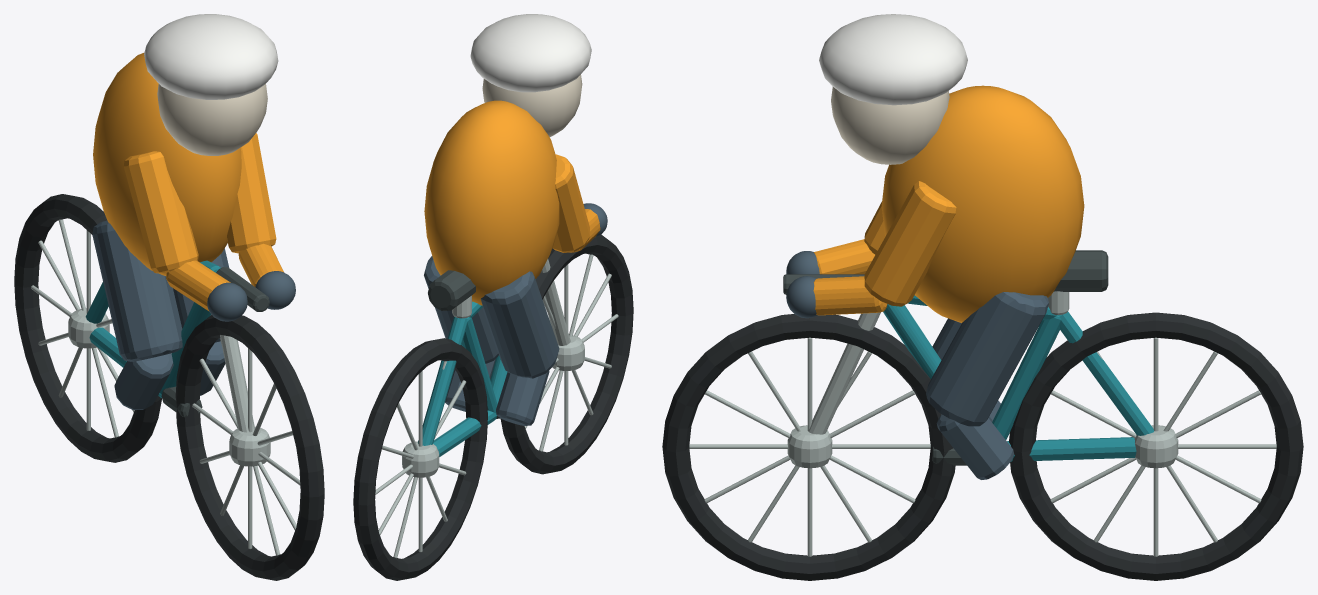
The model's file is cyklist.glb.
3 views of the same model, side by side, from view 1: azimuth 30°, elevation 25°; view 2: azimuth 150°, elevation 25°; view 3: azimuth 270°, elevation 25° (orthographic). The views are drawn at different scales.
Parts seen in each view (by area): view 1: Cyclist torso, Bicycle wheel.001, Bicycle wheel, Cyclist helmet, Cyclist thigh, Cyclist upper arm, Cyclist head, Cyclist upper arm.001, Cyclist lower leg, Cyclist forearm, Front fork, Cyclist glove (+17 smaller); view 2: Cyclist torso, Bicycle wheel, Bicycle wheel.001, Cyclist helmet, Cyclist thigh, Cyclist head, Cyclist upper arm, Cyclist lower leg, Seat stay, Saddle, Cyclist thigh.001, Wheel hub (+12 smaller); view 3: Cyclist torso, Bicycle wheel, Bicycle wheel.001, Cyclist helmet, Cyclist thigh.001, Cyclist upper arm.001, Cyclist head, Cyclist lower leg.001, Seat tube, Cyclist forearm.001, Lower bicycle frame, Seat stay (+7 smaller).
Part boxes in pixels (box(x1,y1,x2,y2)): Cyclist torso: box(93, 53, 241, 275); Bicycle wheel.001: box(175, 315, 324, 580); Bicycle wheel: box(14, 194, 161, 462); Cyclist helmet: box(144, 14, 278, 99); Cyclist thigh: box(92, 220, 182, 361); Cyclist upper arm: box(123, 151, 198, 273); Cyclist head: box(157, 84, 267, 155); Cyclist upper arm.001: box(227, 133, 276, 253); Cyclist lower leg: box(114, 353, 173, 409); Cyclist forearm: box(166, 260, 230, 311); Front fork: box(220, 335, 254, 432); Cyclist glove: box(207, 282, 247, 321); Cyclist torso: box(424, 100, 559, 305); Bicycle wheel: box(353, 338, 487, 580); Bicycle wheel.001: box(500, 234, 633, 474); Cyclist helmet: box(470, 14, 591, 92); Cyclist thigh: box(481, 271, 559, 378); Cyclist head: box(482, 74, 582, 136); Cyclist upper arm: box(552, 154, 589, 252); Cyclist lower leg: box(496, 370, 549, 425); Seat stay: box(418, 316, 467, 445); Saddle: box(428, 270, 475, 310); Cyclist thigh.001: box(424, 256, 498, 363); Wheel hub: box(402, 441, 439, 477); Cyclist torso: box(881, 85, 1084, 322); Bicycle wheel: box(1009, 312, 1303, 580); Bicycle wheel.001: box(662, 314, 955, 580); Cyclist helmet: box(819, 14, 967, 105); Cyclist thigh.001: box(926, 292, 1048, 426); Cyclist upper arm.001: box(864, 181, 956, 306); Cyclist head: box(831, 86, 949, 164); Cyclist lower leg.001: box(936, 414, 1014, 479); Seat tube: box(992, 315, 1061, 439); Cyclist forearm.001: box(813, 276, 887, 315); Lower bicycle frame: box(1007, 437, 1136, 461); Seat stay: box(1058, 311, 1153, 435).
Bounding box in the file's own units: 0.5338 × 2.05 × 2.15.
